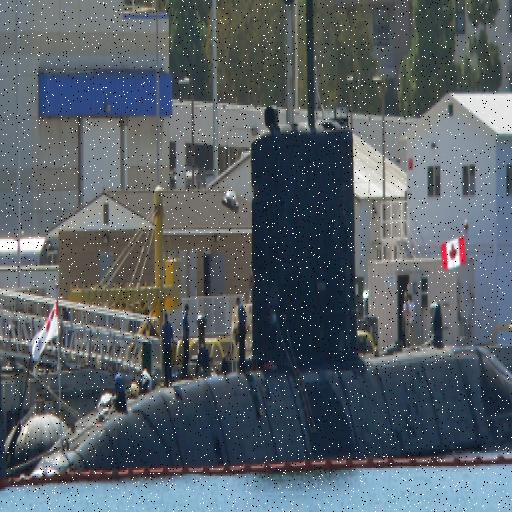submarine: (1, 1, 512, 482)
